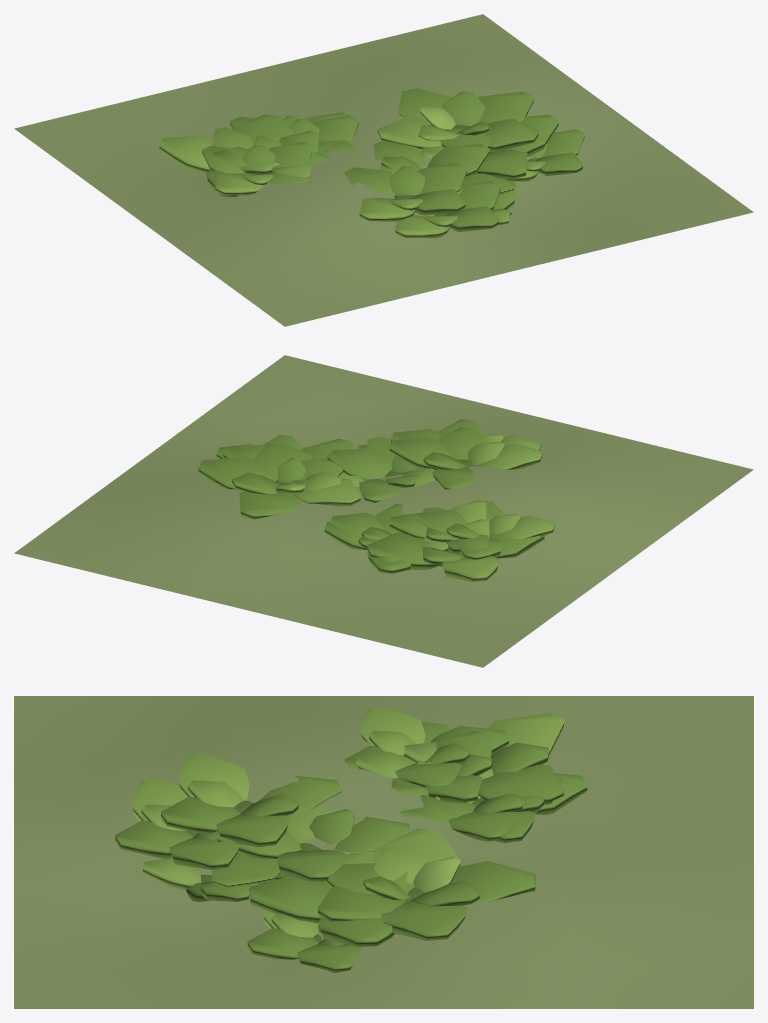
The model's file is master_grass_lush_04.glb.
The picture shows the model from 3 angles, top to bottom: view 1: azimuth 30°, elevation 25°; view 2: azimuth 150°, elevation 25°; view 3: azimuth 270°, elevation 25°; orthographic projection. The views are drawn at different scales.
Parts seen in each view (by area): view 1: master_grass_lush_04; view 2: master_grass_lush_04; view 3: master_grass_lush_04.
Part boxes in pixels (<box>): master_grass_lush_04: <box>14,14,753,326</box>; master_grass_lush_04: <box>14,355,753,667</box>; master_grass_lush_04: <box>14,696,753,1008</box>.
Bounding box in the file's own units: 1.35 × 0.1147 × 1.35.
